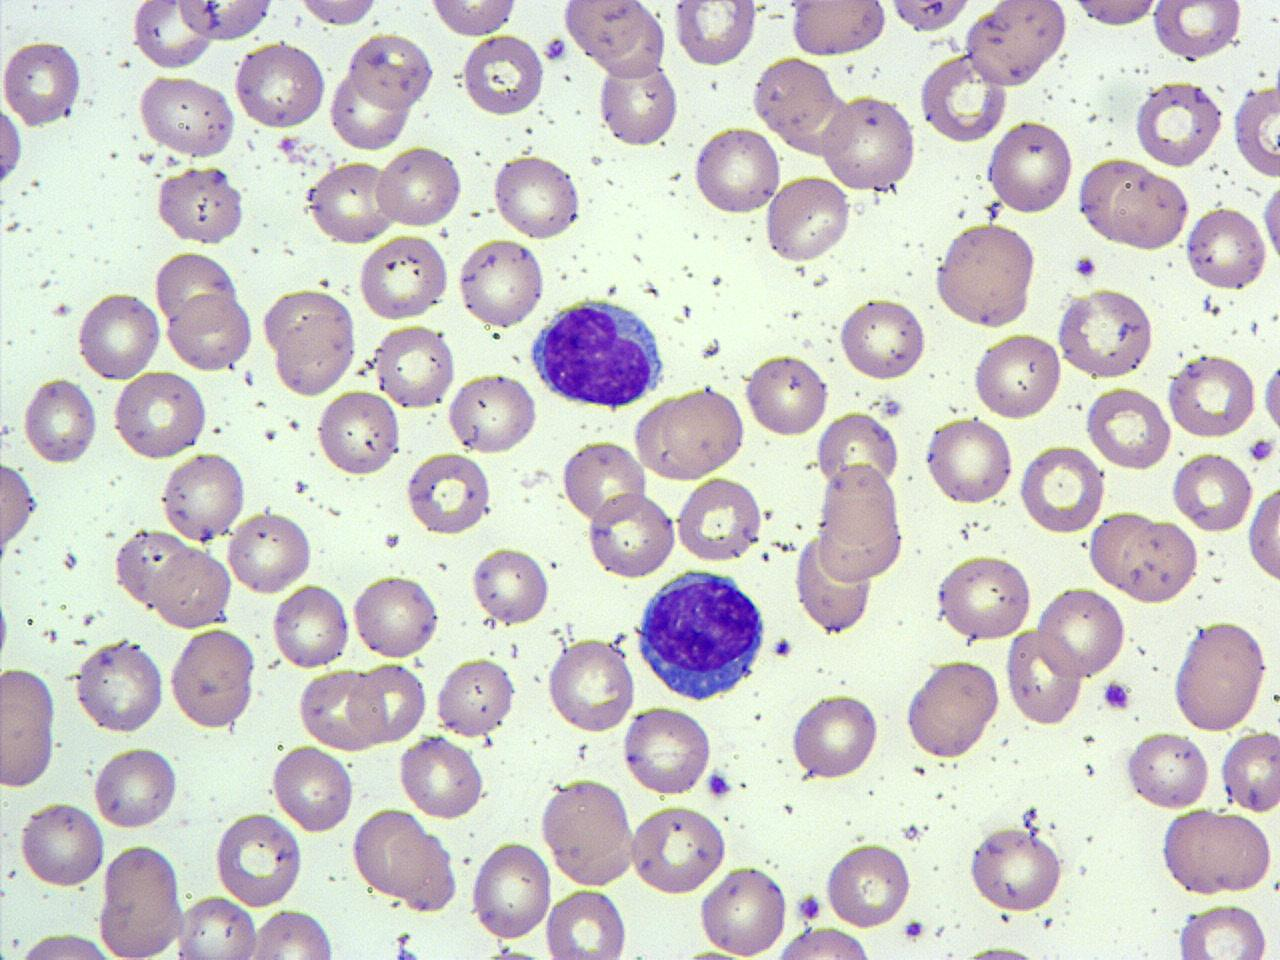Platelets: (1101, 680, 1133, 710), (795, 890, 824, 924), (703, 768, 730, 799), (1248, 436, 1276, 463), (902, 918, 928, 942), (1073, 256, 1097, 280), (773, 637, 794, 658), (1022, 804, 1040, 825)
RBC: (1169, 618, 1271, 734), (933, 220, 1040, 330), (537, 774, 636, 888), (261, 284, 360, 398), (1074, 157, 1192, 251), (95, 840, 184, 958), (902, 658, 1002, 761), (814, 481, 908, 585), (1055, 285, 1157, 380), (821, 94, 917, 194), (1157, 807, 1259, 899), (934, 552, 1036, 644), (962, 1, 1069, 88), (544, 634, 637, 735), (630, 803, 728, 897), (135, 73, 240, 160), (232, 38, 328, 134), (212, 810, 305, 908), (1034, 584, 1128, 682), (167, 628, 257, 730), (964, 825, 1067, 913), (73, 638, 166, 735), (112, 368, 210, 460), (468, 838, 552, 944), (985, 117, 1075, 216), (696, 863, 790, 958), (354, 231, 450, 324), (622, 704, 716, 798), (691, 123, 783, 219), (584, 489, 678, 581), (972, 330, 1066, 422), (454, 236, 544, 330), (159, 449, 247, 546), (924, 413, 1014, 507), (792, 532, 874, 635), (76, 288, 162, 385), (789, 690, 880, 782), (836, 295, 928, 385), (1134, 79, 1226, 168), (823, 838, 913, 930), (658, 385, 747, 478), (919, 50, 1007, 144), (1165, 352, 1259, 440), (91, 742, 180, 833), (1016, 442, 1104, 534), (674, 474, 764, 564), (16, 800, 106, 889), (1004, 626, 1084, 726), (224, 508, 314, 597), (763, 174, 851, 266), (350, 573, 442, 659), (270, 741, 355, 836), (314, 387, 401, 479), (490, 155, 583, 241), (596, 54, 680, 148), (742, 350, 830, 439), (374, 142, 464, 230), (403, 450, 494, 536), (445, 370, 538, 455), (814, 408, 902, 497), (1, 36, 83, 131), (328, 63, 413, 152), (153, 164, 247, 246), (560, 438, 646, 526), (397, 734, 486, 820), (306, 160, 399, 242), (0, 662, 59, 788), (270, 580, 352, 672), (296, 668, 384, 752), (373, 322, 458, 409), (1084, 384, 1172, 469), (1183, 204, 1267, 292), (21, 373, 99, 467), (434, 655, 520, 740), (460, 33, 546, 117), (1122, 730, 1210, 812), (750, 54, 836, 138), (352, 805, 428, 897), (154, 248, 239, 332), (1118, 517, 1200, 603), (345, 31, 434, 110), (350, 659, 430, 746), (1086, 509, 1166, 597), (164, 292, 254, 370), (1169, 450, 1253, 532), (470, 544, 550, 628), (155, 545, 233, 630), (541, 886, 630, 960), (1171, 899, 1273, 960), (785, 0, 890, 58), (114, 527, 187, 610), (670, 1, 758, 70), (130, 0, 214, 70), (176, 891, 260, 960), (1151, 0, 1243, 61), (1220, 726, 1280, 816), (560, 0, 646, 61), (247, 906, 338, 958), (1231, 82, 1279, 179), (174, 0, 277, 45), (760, 924, 882, 960), (426, 0, 524, 39), (1245, 480, 1279, 586), (0, 452, 35, 554), (11, 930, 126, 960), (884, 0, 974, 34), (1066, 0, 1160, 31), (296, 0, 382, 29), (0, 99, 24, 195), (1258, 343, 1280, 447), (957, 940, 1045, 960)
WBC: (629, 564, 770, 706), (528, 294, 669, 414)
